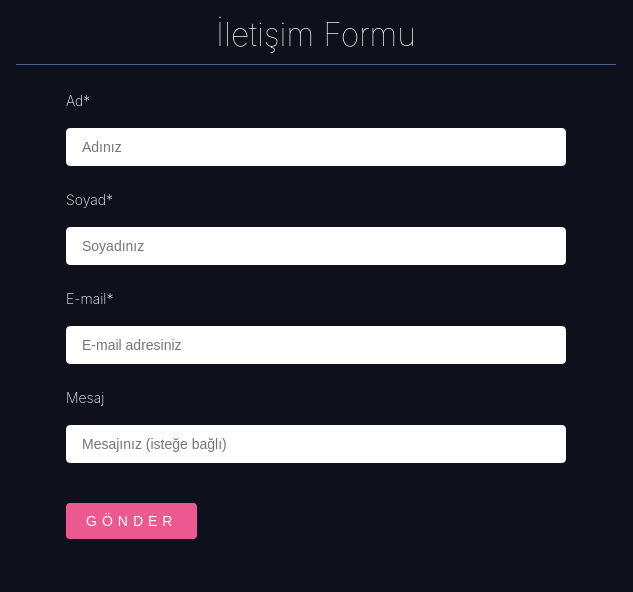
Scenario: [3] kullanıcı adını 5 karakterden az girdiğinde BİR hata mesajı render ediyor.
This screenshot has width=633, height=592.
In the field labelled "Ad*": point(316, 147) [66,128,566,166], type "a"
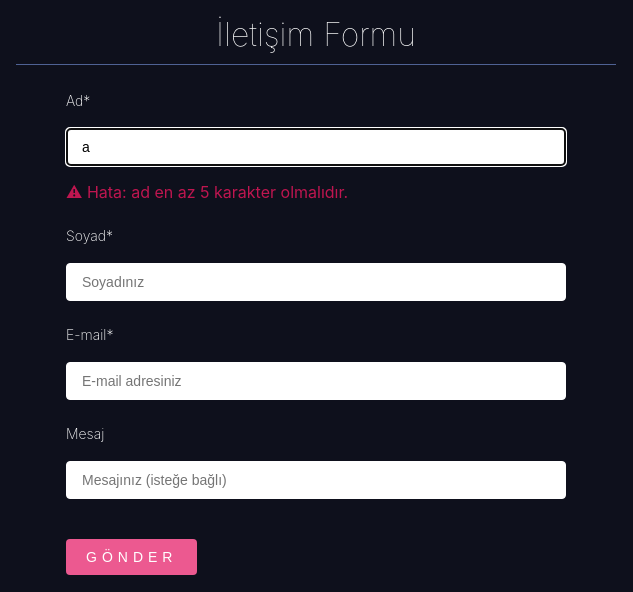
Now the number of elements with test id "error" is 1, box [87,182,348,202]
